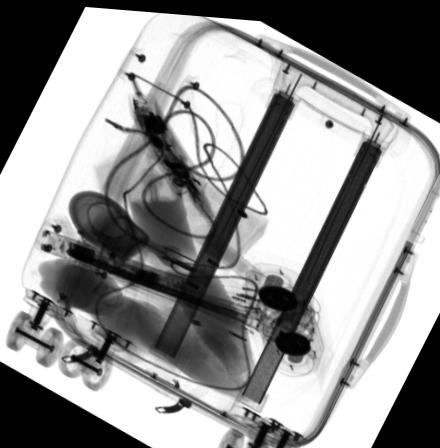Baton: (126, 87, 205, 197)
